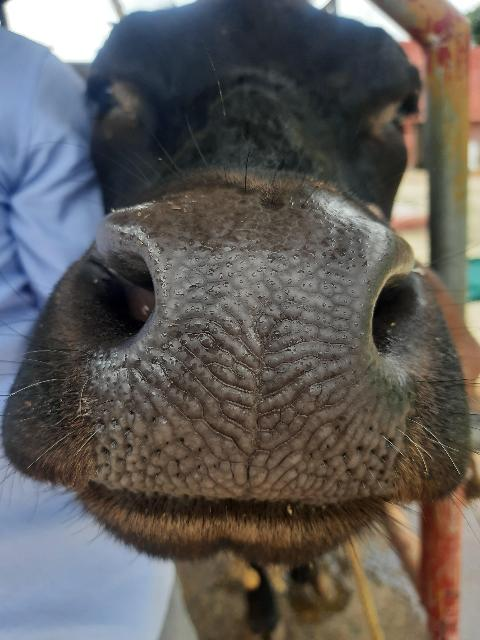Muzzle: (151, 214, 359, 493)
